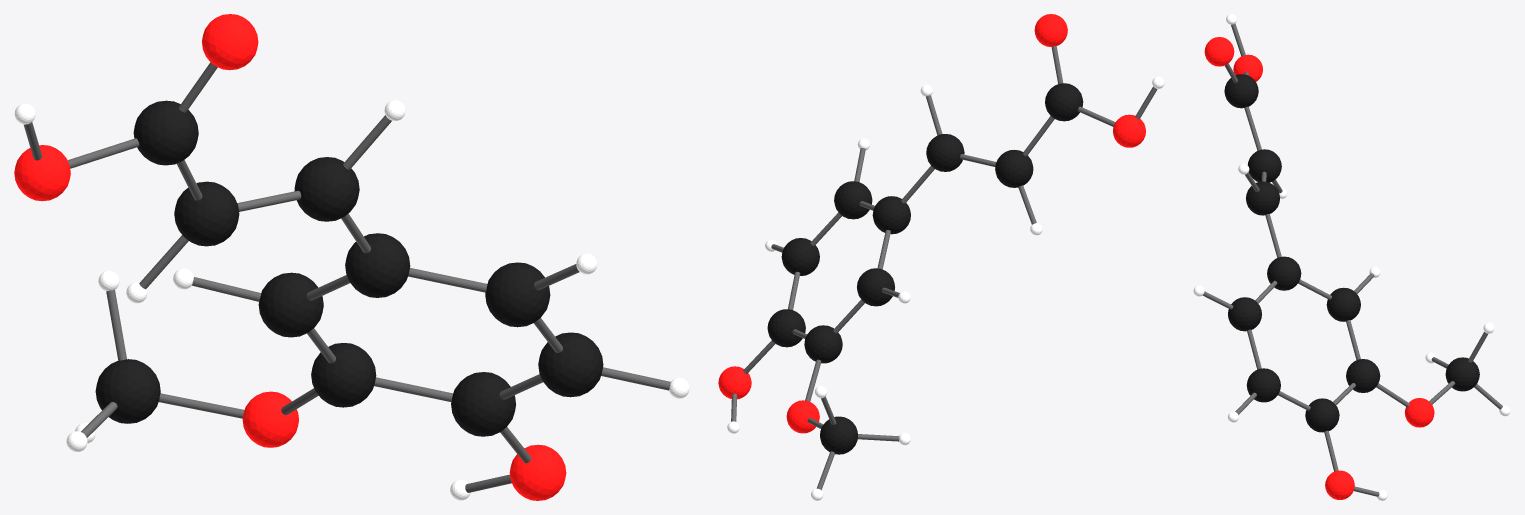
Rendered from molecule.glb.
3 renders of one model, left to right at view 1: azimuth 30°, elevation 25°; view 2: azimuth 150°, elevation 25°; view 3: azimuth 270°, elevation 25°, orthographic. The views are drawn at different scales.
Parts seen in each view (by area): view 1: geometry_7, geometry_5, geometry_12, geometry_10, geometry_3, geometry_0, geometry_11, geometry_6, geometry_2, geometry_4, geometry_8, geometry_1 (+5 smaller); view 2: geometry_6, geometry_5, geometry_7, geometry_2, geometry_4, geometry_11, geometry_0, geometry_10, geometry_12, geometry_3, geometry_8, geometry_9 (+2 smaller); view 3: geometry_12, geometry_10, geometry_3, geometry_4, geometry_2, geometry_11, geometry_7, geometry_0, geometry_5, geometry_6, geometry_8, geometry_13 (+2 smaller).
Part boxes in pixels (x1,y1,x2,y2): geometry_7: (133, 100, 198, 165); geometry_5: (294, 157, 359, 221); geometry_12: (451, 372, 515, 436); geometry_10: (485, 262, 550, 327); geometry_3: (258, 272, 323, 337); geometry_0: (95, 359, 160, 423); geometry_11: (538, 332, 603, 397); geometry_6: (174, 181, 239, 246); geometry_2: (311, 343, 376, 407); geometry_4: (345, 233, 410, 297); geometry_8: (202, 14, 258, 70); geometry_1: (242, 391, 298, 447); geometry_6: (995, 150, 1033, 187); geometry_5: (926, 134, 964, 171); geometry_7: (1045, 83, 1083, 121); geometry_2: (804, 325, 842, 363); geometry_4: (872, 196, 910, 234); geometry_11: (781, 238, 819, 275); geometry_0: (820, 416, 857, 454); geometry_10: (834, 181, 872, 219); geometry_12: (767, 309, 805, 347); geometry_3: (857, 268, 894, 306); geometry_8: (1034, 14, 1067, 46); geometry_9: (1113, 114, 1145, 147); geometry_12: (1305, 398, 1339, 432); geometry_10: (1228, 297, 1261, 331); geometry_3: (1326, 287, 1360, 321); geometry_4: (1267, 256, 1301, 290); geometry_2: (1346, 359, 1380, 392); geometry_11: (1246, 368, 1280, 402); geometry_7: (1224, 74, 1258, 108); geometry_0: (1445, 357, 1479, 391); geometry_5: (1246, 181, 1279, 215); geometry_6: (1247, 149, 1281, 182); geometry_8: (1204, 37, 1234, 66); geometry_13: (1325, 470, 1354, 499).
Bounding box in the file's own units: 0.257 × 0.2515 × 0.1989.
